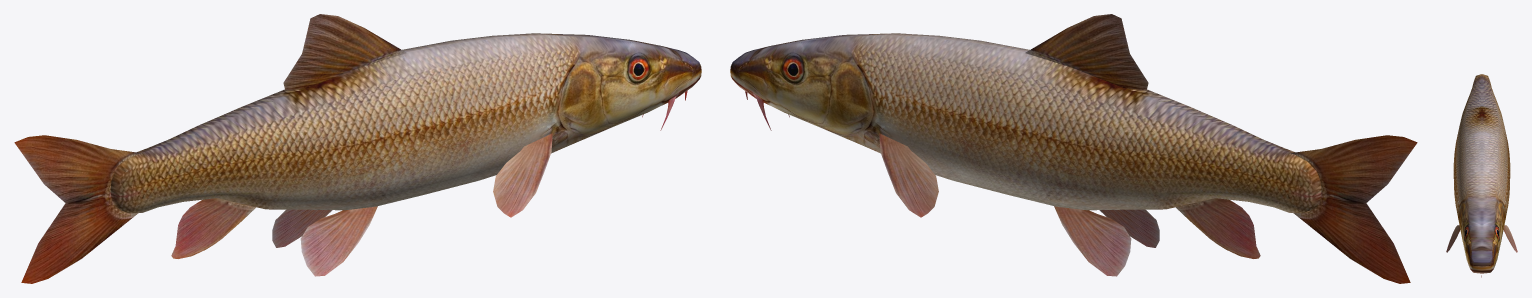
The model's file is Barbel.glb.
The picture shows the model from 3 angles, left to right: view 1: azimuth 30°, elevation 25°; view 2: azimuth 150°, elevation 25°; view 3: azimuth 270°, elevation 25°; orthographic projection. The views are drawn at different scales.
Parts seen in each view (by area): view 1: Barbel; view 2: Barbel; view 3: Barbel.
Boxes of the visible parts, x1,y1,x2,y2 form: Barbel: (14, 14, 701, 283); Barbel: (730, 14, 1417, 283); Barbel: (1446, 74, 1517, 277).
Size of the model in its own units: 2 by 0.6823 by 0.3013.
1 material, 1 textured.
